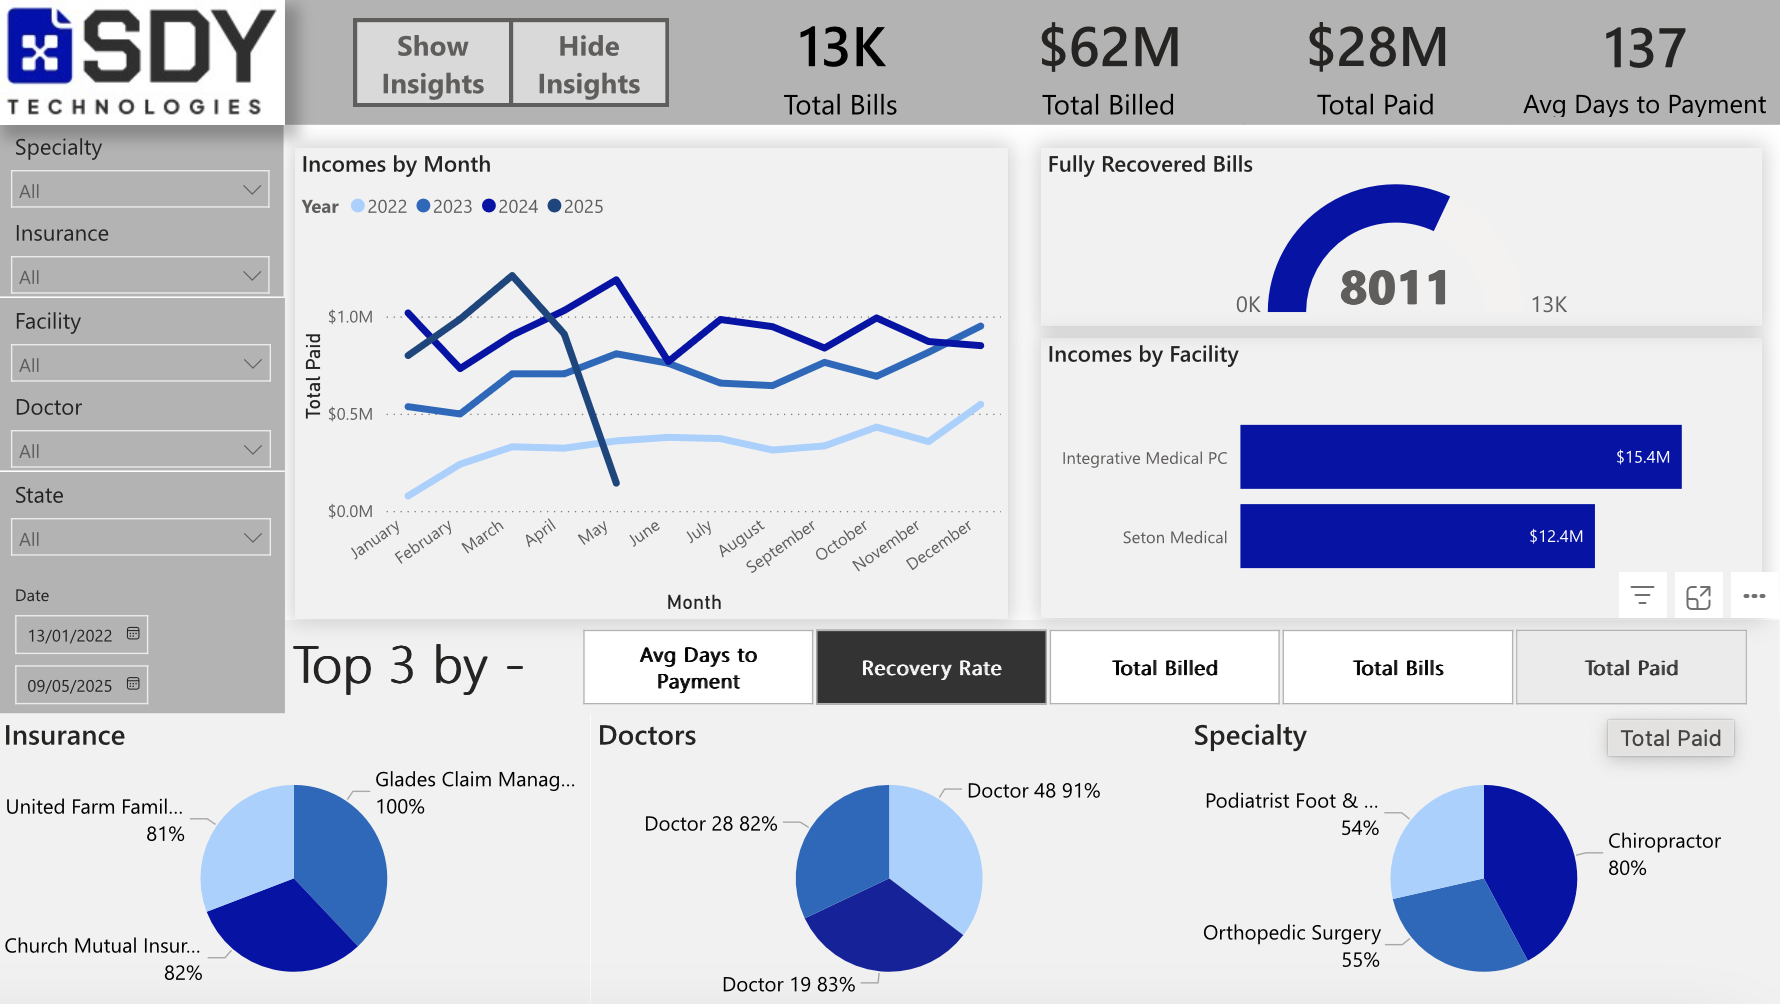

This screenshot's page, from the dashboard's own definition file:
{"tool":"powerbi","page":{"name":"Main","canvas":[1280,720],"ordinal":0},"visuals":[{"type":"card","fields":{"Values":["Query1.Total_Billed"]},"box":[701.7,0,193.7,89.5],"z":0},{"type":"card","fields":{"Values":["Query1.Total Paid"]},"box":[893.2,0,193.2,89.3],"z":1000},{"type":"card","fields":{"Values":["Query1.Avg Days to Payment"]},"box":[1086.4,0,193.2,89.3],"z":2000},{"type":"barChart","title":"Incomes by Facility","fields":{"Category":["Query1.practice_facility"],"Y":["Query1.Total Paid"]},"box":[749.2,243,517.2,201],"z":3000},{"type":"lineChart","title":"Incomes by Month","fields":{"Category":["Query1.payment_date.Variation.Date Hierarchy.Month"],"Y":["Query1.Total Paid"],"Series":["Query1.payment_date.Variation.Date Hierarchy.Year"]},"box":[213.8,106,511.7,338.1],"z":4000},{"type":"pieChart","title":"Specialty","fields":{"Category":["Query1.doctor_specialty"],"Y":["Measure Selector.Selected Measure Display"]},"box":[853.4,511.7,425.8,208.3],"z":5000},{"type":"slicer","fields":{"Values":["Query1.doctor_specialty"]},"box":[0,89.3,206,62],"z":6000},{"type":"slicer","fields":{"Values":["Query1.insurance_name"]},"box":[0,151.3,206,62],"z":7000},{"type":"slicer","fields":{"Values":["Query1.practice_facility"]},"box":[0,213.8,206.5,62.1],"z":8000},{"type":"slicer","fields":{"Values":["Query1.Fake Doctor Name"]},"box":[0,275.9,206.5,62.1],"z":9000},{"type":"pieChart","title":"Insurance","fields":{"Y":["Measure Selector.Insurance Measure Display"],"Category":["Query1.insurance_name"]},"box":[0,511.7,425.8,208.3],"z":10000},{"type":"slicer","fields":{"Values":["Query1.practice_state"]},"box":[0,338.1,206.5,74.9],"z":11000},{"type":"pieChart","title":"Doctors","fields":{"Category":["Query1.Fake Doctor Name"],"Y":["Measure Selector.Selected Measure Display"]},"box":[425.8,511.7,427.6,208.3],"z":12000},{"type":"slicer","fields":{"Values":["Measure Selector.MeasureName"]},"box":[394.7,444.1,884.5,67.6],"z":13000},{"type":"textbox","box":[206.5,444.1,188.2,67.6],"z":14000},{"type":"card","fields":{"Values":["Query1.Total Bills"]},"box":[509.8,0,193.7,89.5],"z":15000},{"type":"slicer","fields":{"Values":["Query1.payment_date"]},"box":[0,413,206.5,98.7],"z":16000},{"type":"textbox","box":[0,0,509.8,89.5],"z":17000},{"type":"image","box":[0,0,206.5,89.5],"z":18000},{"type":"actionButton","box":[255.8,12.8,115.1,64],"z":21000},{"type":"actionButton","box":[367.3,12.8,115.1,64],"z":22000},{"type":"gauge","title":"Fully Recovered Bills","fields":{"Y":["Query1.IsFullyRecovered"],"MaxValue":["Query1.Total Bills"]},"box":[749.2,106,517.2,127.9],"z":23000}]}

Visuals, with their boxes in screenshot pixels (x1, y1, x2, y2), scaled from the page's 1280x720 canvas onto the 1780x1004 screenshot:
card - Query1.Total_Billed: select_region(976, 0, 1245, 125)
card - Query1.Total Paid: select_region(1242, 0, 1511, 125)
card - Query1.Avg Days to Payment: select_region(1511, 0, 1779, 125)
"Incomes by Facility" barChart: select_region(1042, 339, 1761, 619)
"Incomes by Month" lineChart: select_region(297, 148, 1009, 619)
"Specialty" pieChart: select_region(1187, 714, 1779, 1003)
slicer - Query1.doctor_specialty: select_region(0, 125, 286, 211)
slicer - Query1.insurance_name: select_region(0, 211, 286, 297)
slicer - Query1.practice_facility: select_region(0, 298, 287, 385)
slicer - Query1.Fake Doctor Name: select_region(0, 385, 287, 471)
"Insurance" pieChart: select_region(0, 714, 592, 1003)
slicer - Query1.practice_state: select_region(0, 471, 287, 576)
"Doctors" pieChart: select_region(592, 714, 1187, 1003)
slicer - Measure Selector.MeasureName: select_region(549, 619, 1779, 714)
textbox: select_region(287, 619, 549, 714)
card - Query1.Total Bills: select_region(709, 0, 978, 125)
slicer - Query1.payment_date: select_region(0, 576, 287, 714)
textbox: select_region(0, 0, 709, 125)
image: select_region(0, 0, 287, 125)
actionButton: select_region(356, 18, 516, 107)
actionButton: select_region(511, 18, 671, 107)
"Fully Recovered Bills" gauge: select_region(1042, 148, 1761, 326)
